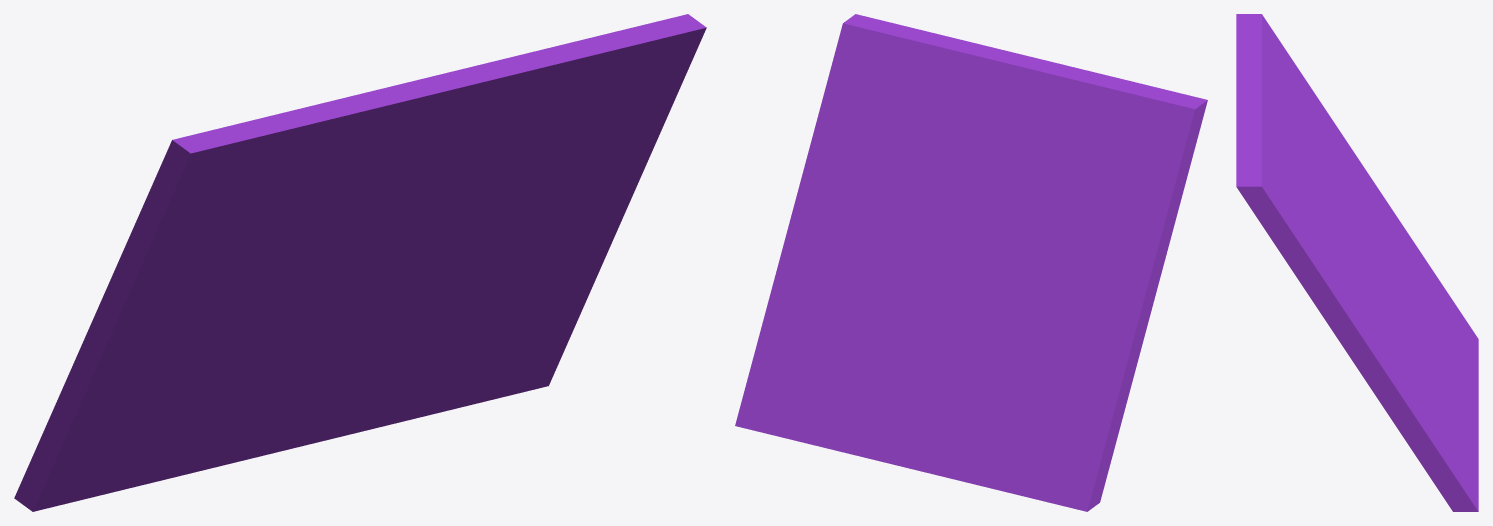
File: Window_33_chunks.fbx
3 renders of one model, left to right at view 1: azimuth 30°, elevation 25°; view 2: azimuth 150°, elevation 25°; view 3: azimuth 270°, elevation 25°, orthographic. The views are drawn at different scales.
Parts seen in each view (by area): view 1: Window_33_8, Window_33_4, Window_33_7, Window_33_10, Window_33_0, Window_33_11, Window_33_28, Window_33_23, Window_33_22, Window_33_1, Window_33_29, Window_33_9 (+18 smaller); view 2: Window_33_4, Window_33_8, Window_33_10, Window_33_7, Window_33_28, Window_33_12, Window_33_11, Window_33_30, Window_33_19, Window_33_14, Window_33_23, Window_33_22 (+9 smaller); view 3: Window_33_8, Window_33_4, Window_33_10, Window_33_7, Window_33_28, Window_33_12, Window_33_11, Window_33_22, Window_33_30, Window_33_19, Window_33_14, Window_33_18 (+9 smaller).
Boxes of the visible parts, box(x1,y1,x2,y2) form: Window_33_8: box(520, 14, 706, 218); Window_33_4: box(338, 242, 611, 437); Window_33_7: box(314, 55, 547, 223); Window_33_10: box(127, 105, 313, 281); Window_33_0: box(205, 107, 351, 241); Window_33_11: box(77, 335, 300, 500); Window_33_28: box(14, 373, 230, 511); Window_33_23: box(43, 319, 165, 472); Window_33_22: box(477, 185, 622, 252); Window_33_1: box(269, 218, 381, 310); Window_33_29: box(200, 291, 316, 378); Window_33_9: box(199, 227, 302, 311); Window_33_4: box(735, 255, 903, 461); Window_33_8: box(787, 14, 963, 232); Window_33_10: box(1034, 85, 1207, 280); Window_33_7: box(944, 40, 1100, 207); Window_33_28: box(998, 351, 1111, 511); Window_33_12: box(883, 387, 996, 489); Window_33_11: box(953, 340, 1054, 503); Window_33_30: box(1008, 252, 1086, 355); Window_33_19: box(906, 159, 1003, 249); Window_33_14: box(896, 308, 991, 389); Window_33_23: box(1091, 301, 1144, 458); Window_33_22: box(781, 176, 907, 256); Window_33_8: box(1236, 130, 1374, 359); Window_33_4: box(1366, 350, 1478, 511); Window_33_10: box(1236, 14, 1361, 200); Window_33_7: box(1236, 61, 1335, 206); Window_33_28: box(1404, 263, 1478, 354); Window_33_12: box(1433, 348, 1478, 438); Window_33_11: box(1404, 292, 1478, 382); Window_33_22: box(1331, 242, 1386, 380); Window_33_30: box(1355, 193, 1405, 280); Window_33_19: box(1318, 200, 1360, 265); Window_33_14: box(1389, 280, 1438, 382); Window_33_18: box(1371, 281, 1401, 359).
Size of the model in its own units: 1059 by 930 by 628.
